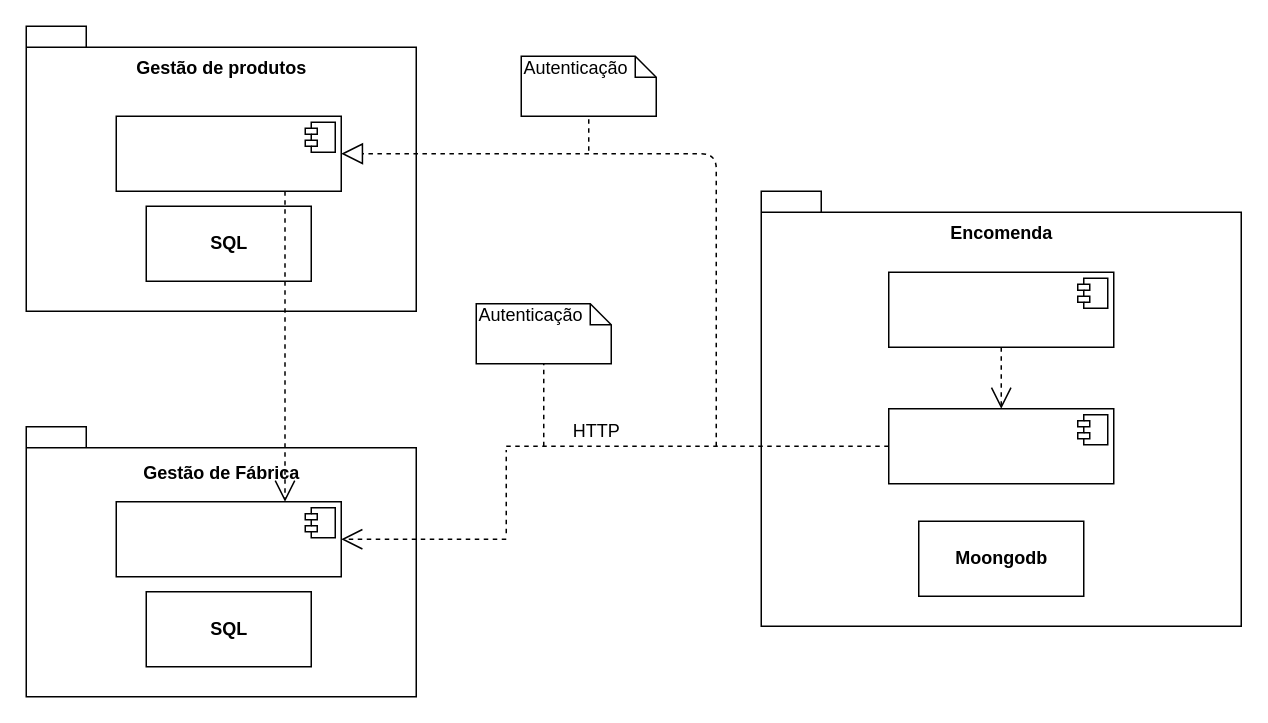
This 1268x723 diagram has some shape labels left out. The centre of each missing label's shape, as x and y in pixels:
"<<component>> Encomendas BackEnd" belongs at (x=1000, y=445).
"<<component>> Encomendas FrontEnd" belongs at (x=1000, y=309).
"<<component>> MasterDataFabrica" belongs at (x=228, y=538).
"<<component>> MasterDataProdução" belongs at (x=228, y=153).
